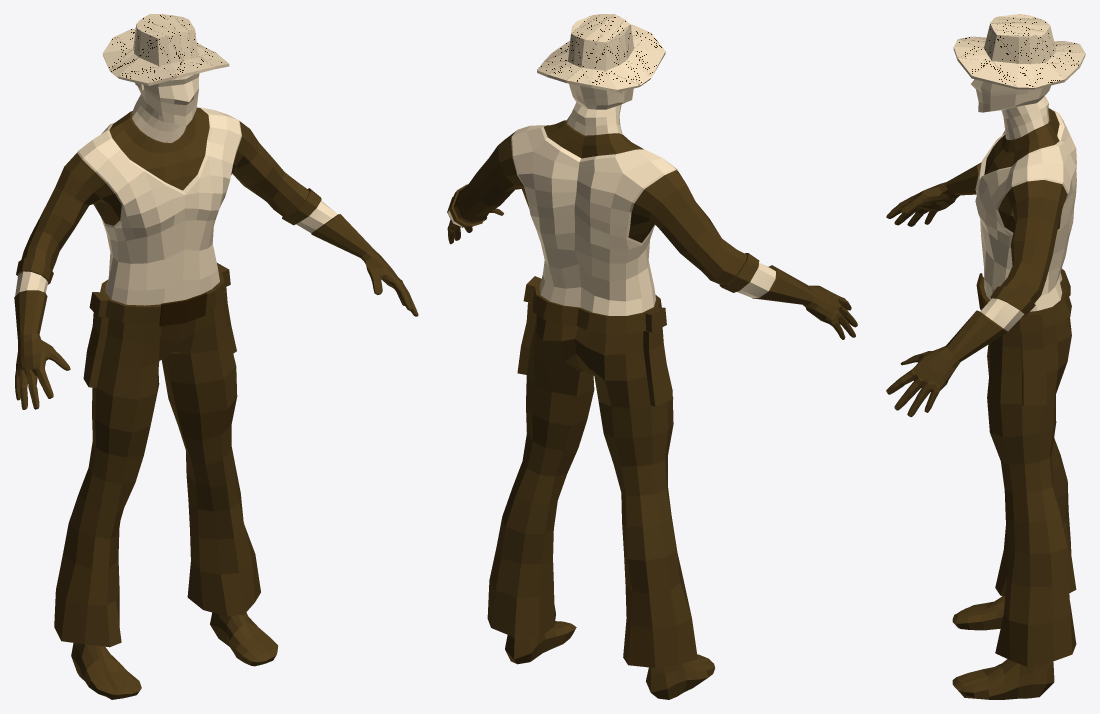
Rendered from cowboy.glb.
3 views of the same model, side by side, from view 1: azimuth 30°, elevation 25°; view 2: azimuth 150°, elevation 25°; view 3: azimuth 270°, elevation 25° (orthographic).
Visible parts, largest first — view 1: cowboy; view 2: cowboy; view 3: cowboy.
Boxes of the visible parts, left/top/right/bottom form: cowboy: left=14, top=14, right=418, bottom=699; cowboy: left=447, top=14, right=857, bottom=699; cowboy: left=886, top=14, right=1085, bottom=699.
Bounding box in the file's own units: 0.0142 × 0.0219 × 0.00621.
Materials: 1 (1 with a texture image).
